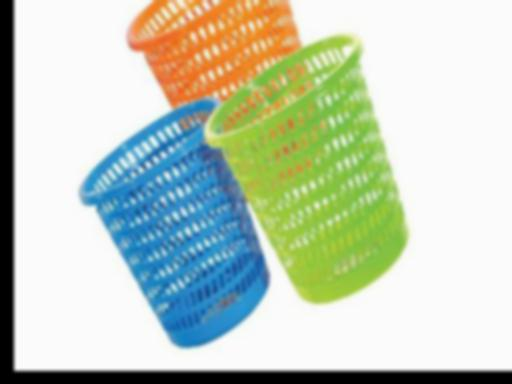Bote de Basura: (84, 101, 274, 348), (233, 50, 408, 310), (119, 0, 324, 191)
